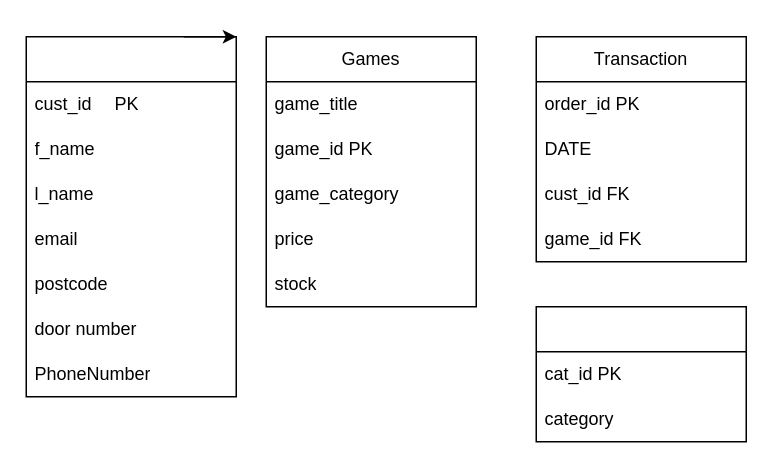
This 773x468 diagram has some shape labels left out. The shapes that lost their labels are listed below. From the top down, each one's box as (x1, y1, x2, y2) in pixels, then its label:
(25, 35, 236, 397): Customer
(535, 305, 746, 442): game cat
